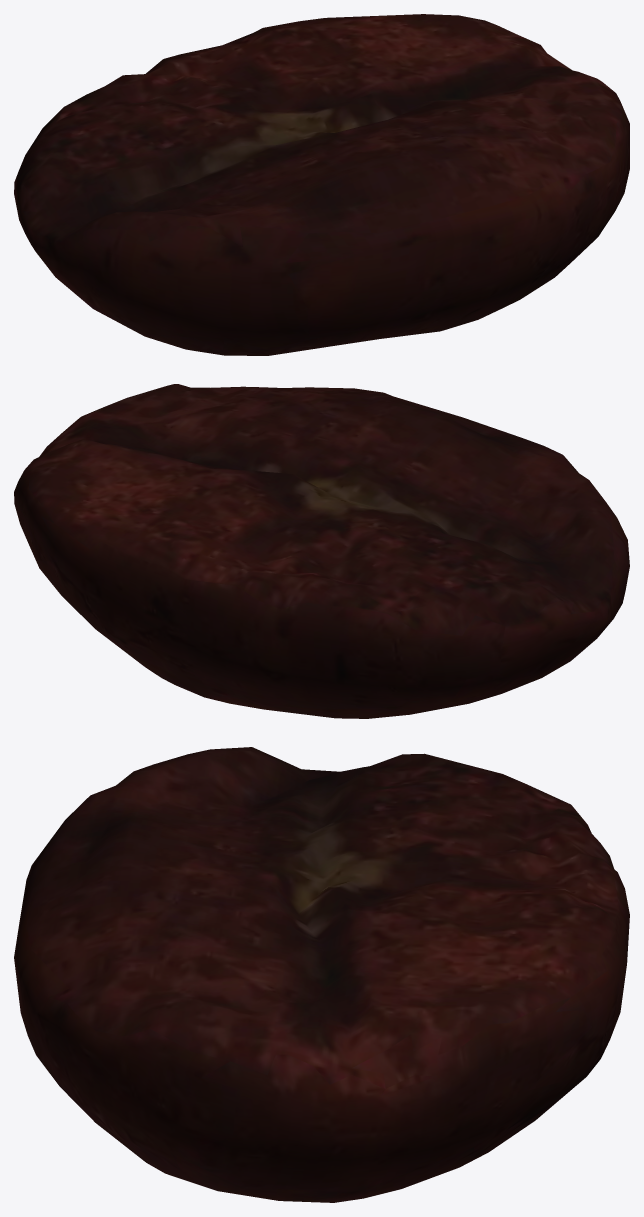
The model's file is bean1.glb.
The picture shows the model from 3 angles, top to bottom: view 1: azimuth 30°, elevation 25°; view 2: azimuth 150°, elevation 25°; view 3: azimuth 270°, elevation 25°; orthographic projection. The views are drawn at different scales.
Parts seen in each view (by area): view 1: bean_06; view 2: bean_06; view 3: bean_06.
Boxes of the visible parts, <box> form: bean_06: <box>14,14,629,355</box>; bean_06: <box>14,384,629,718</box>; bean_06: <box>14,747,629,1202</box>.
Size of the model in its own units: 0.2325 by 0.0827 by 0.1744.
1 material, 1 textured.
